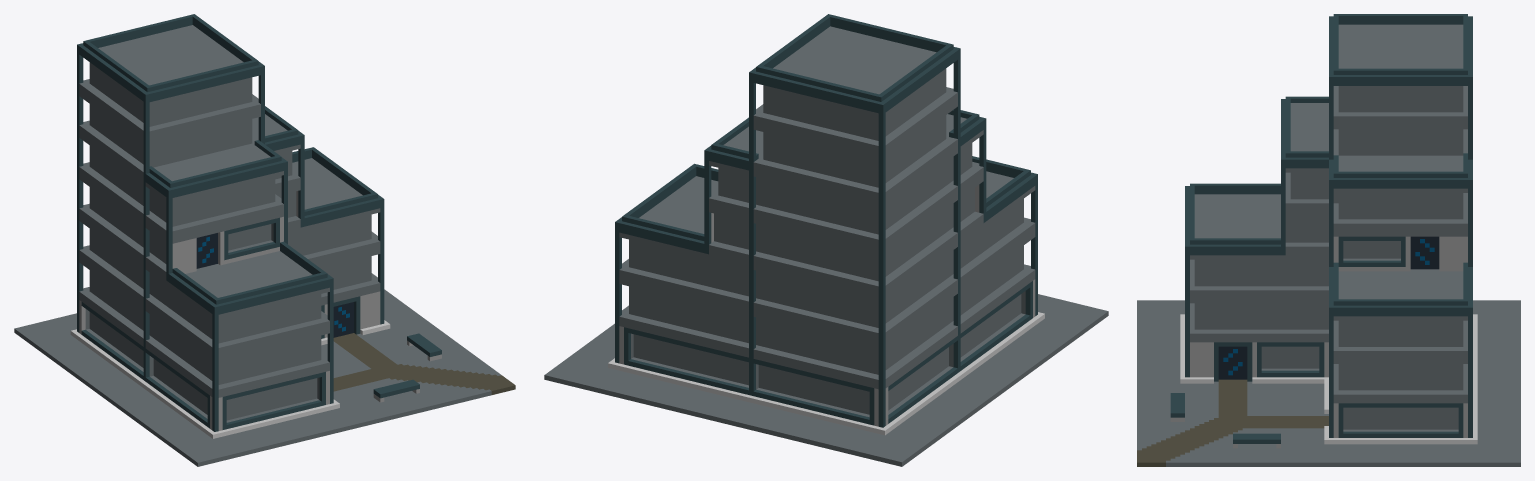
Rendered from building_big_5_overtile.obj.
The picture shows the model from 3 angles, left to right: view 1: azimuth 30°, elevation 25°; view 2: azimuth 150°, elevation 25°; view 3: azimuth 270°, elevation 25°; orthographic projection. The views are drawn at different scales.
Bounding box in the file's own units: 8 × 7.2 × 8.
1 material, 1 textured.
